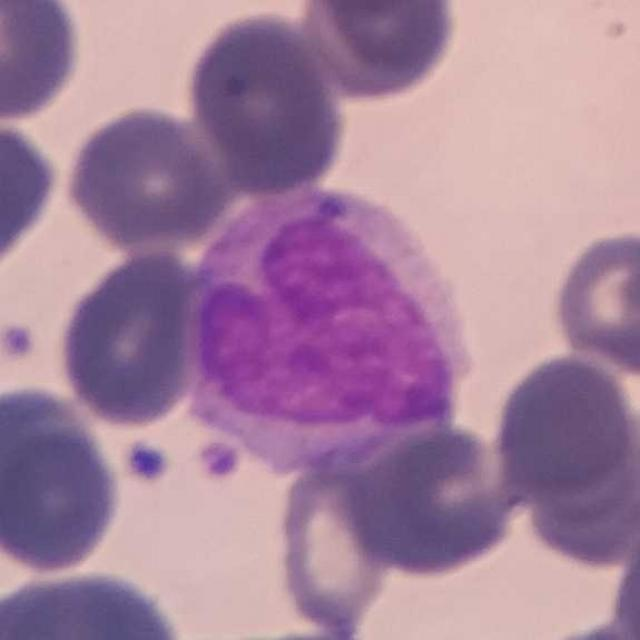Lymphocyte: (0, 110, 66, 287)
Monocyte: (190, 188, 484, 472)
Platelets: (120, 438, 175, 488), (194, 436, 244, 484), (0, 318, 39, 364)
RBC: (180, 7, 352, 199), (338, 416, 526, 582), (485, 346, 640, 541), (51, 246, 209, 432), (58, 101, 228, 254), (0, 381, 126, 581), (270, 457, 400, 636), (516, 422, 640, 576), (296, 0, 464, 105), (1, 562, 195, 640), (547, 224, 640, 377), (0, 112, 66, 280), (0, 0, 88, 125), (596, 492, 640, 638)
